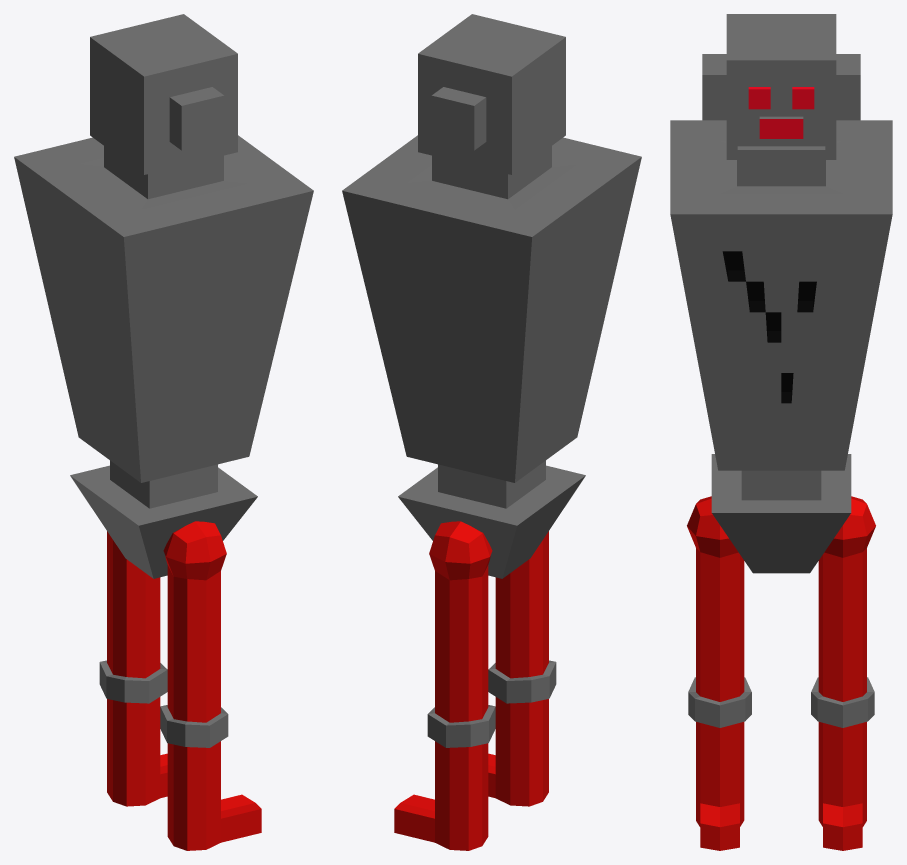
File: robot kolları eksik.fbx
3 views of the same model, side by side, from view 1: azimuth 30°, elevation 25°; view 2: azimuth 150°, elevation 25°; view 3: azimuth 270°, elevation 25° (orthographic).
Parts seen in each view (by area): view 1: Cube.006, Cube.007; view 2: Cube.006, Cube.007; view 3: Cube.006, Cube.007.
Part boxes in pixels (x1,y1,x2,y2): Cube.006: (14, 14, 313, 578); Cube.007: (99, 521, 261, 850); Cube.006: (342, 14, 641, 578); Cube.007: (394, 521, 556, 850); Cube.006: (670, 14, 892, 573); Cube.007: (687, 496, 875, 850).
Bounding box in the file's own units: 282 × 1098 × 282.
